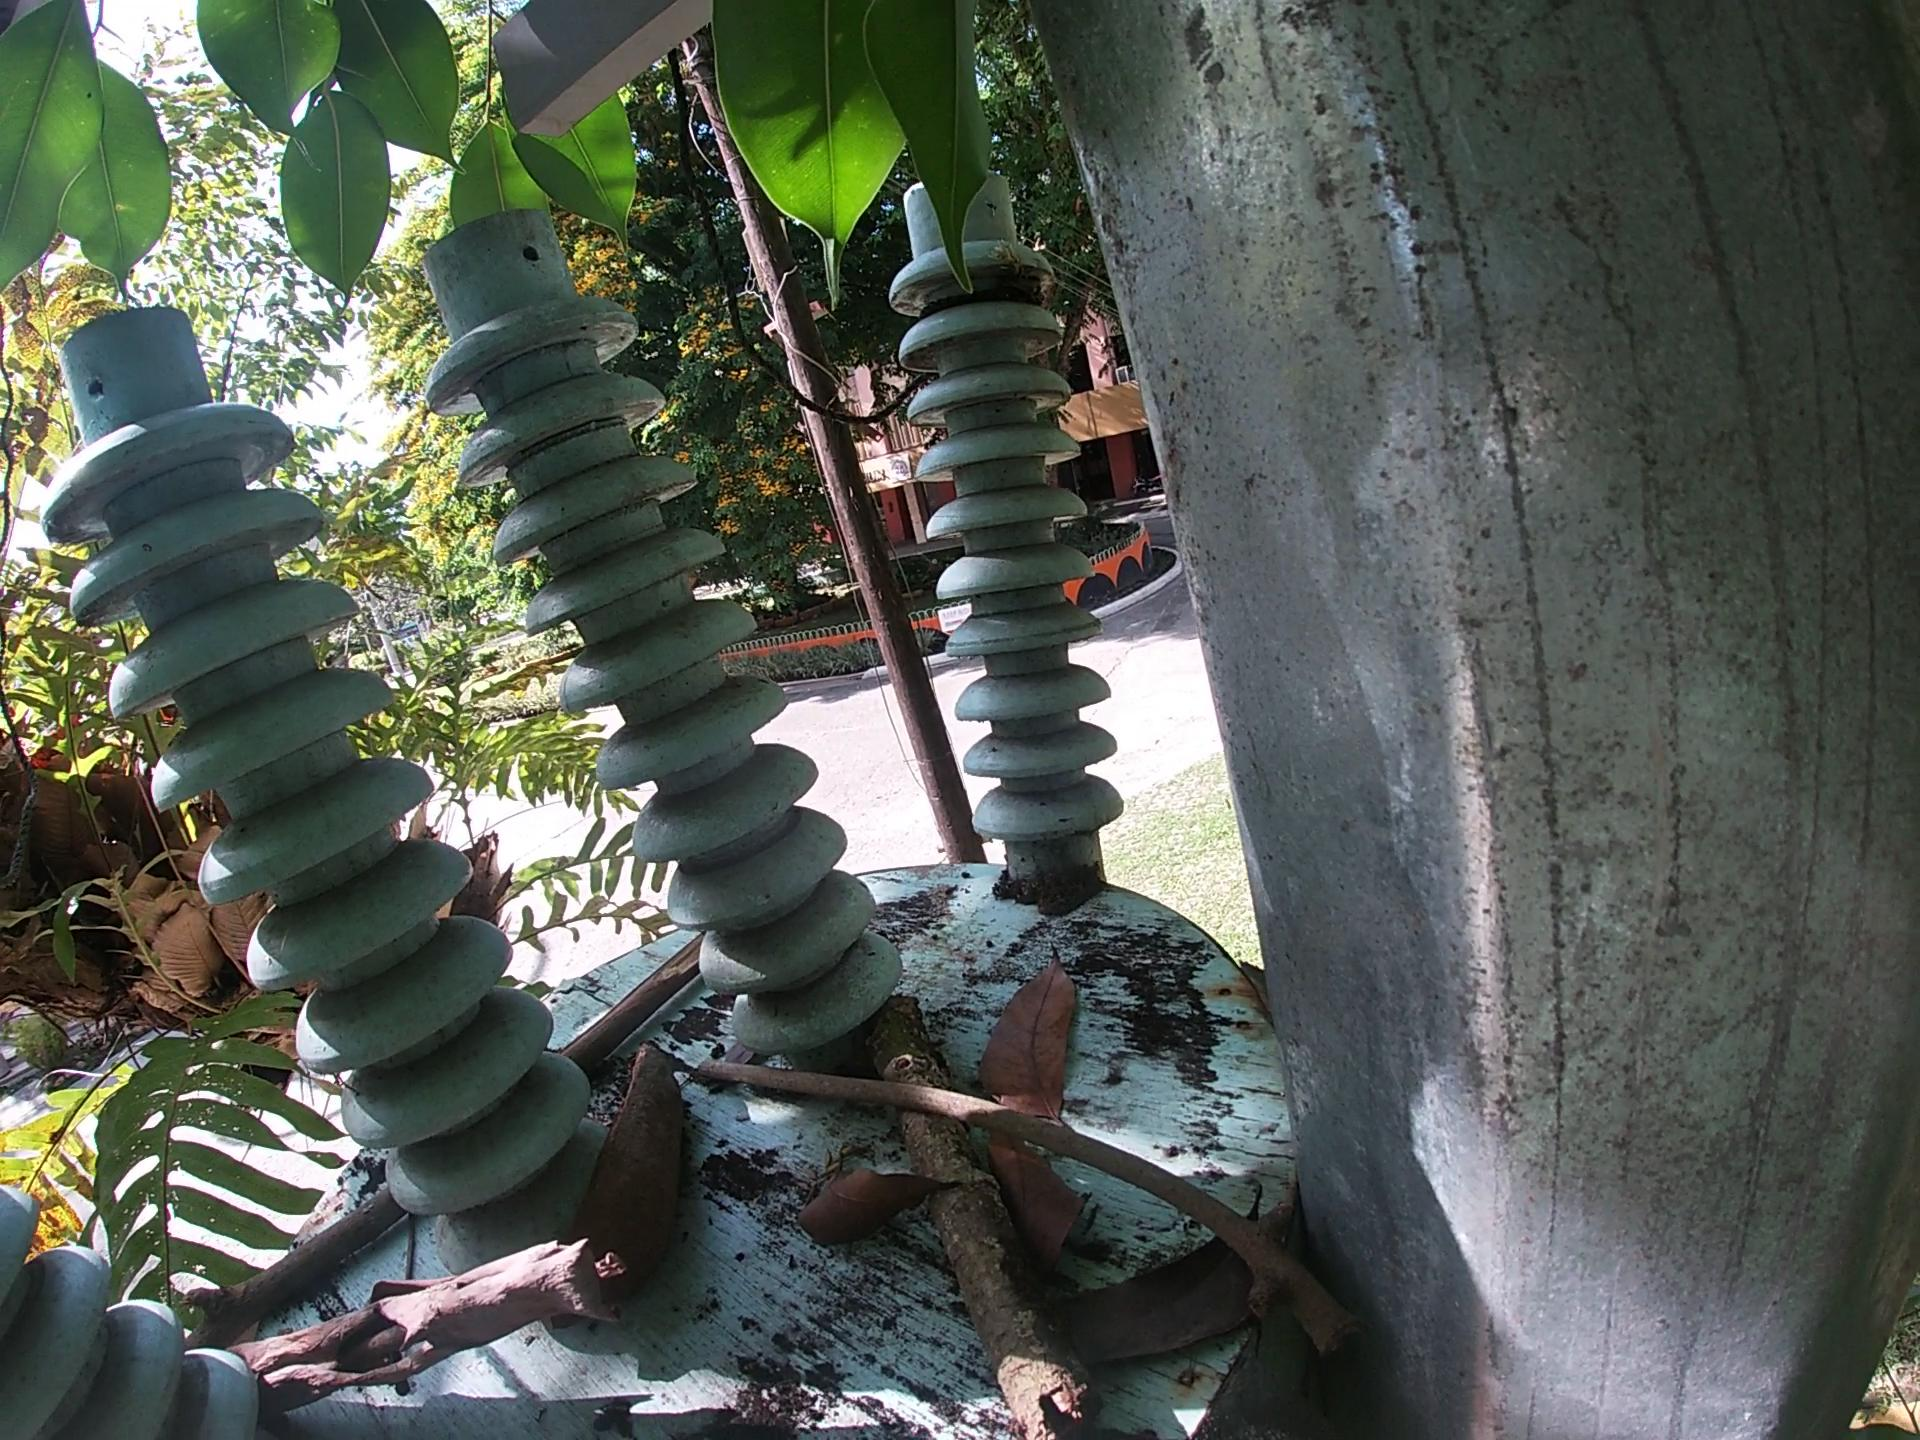leaf: (1042, 1168, 1281, 1372), (971, 944, 1092, 1127), (980, 1127, 1098, 1280), (792, 1165, 962, 1258)
mahogany fruit: (556, 1041, 703, 1325)
tree branch: (692, 1051, 1374, 1372), (860, 988, 1110, 1438), (221, 1227, 646, 1426), (177, 1187, 413, 1358), (559, 926, 720, 1075)
